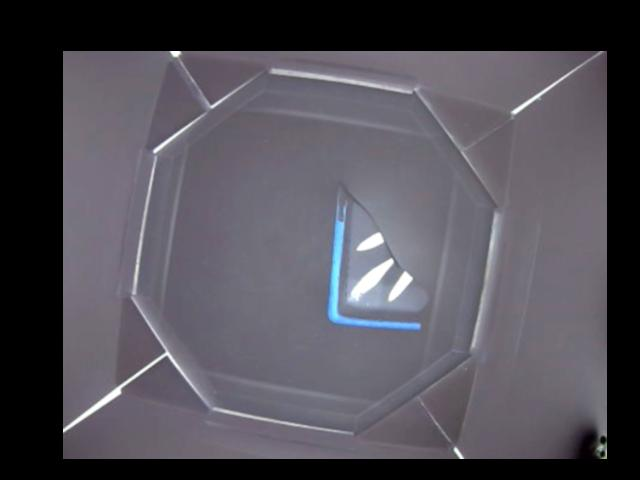China: (327, 184, 432, 329)
